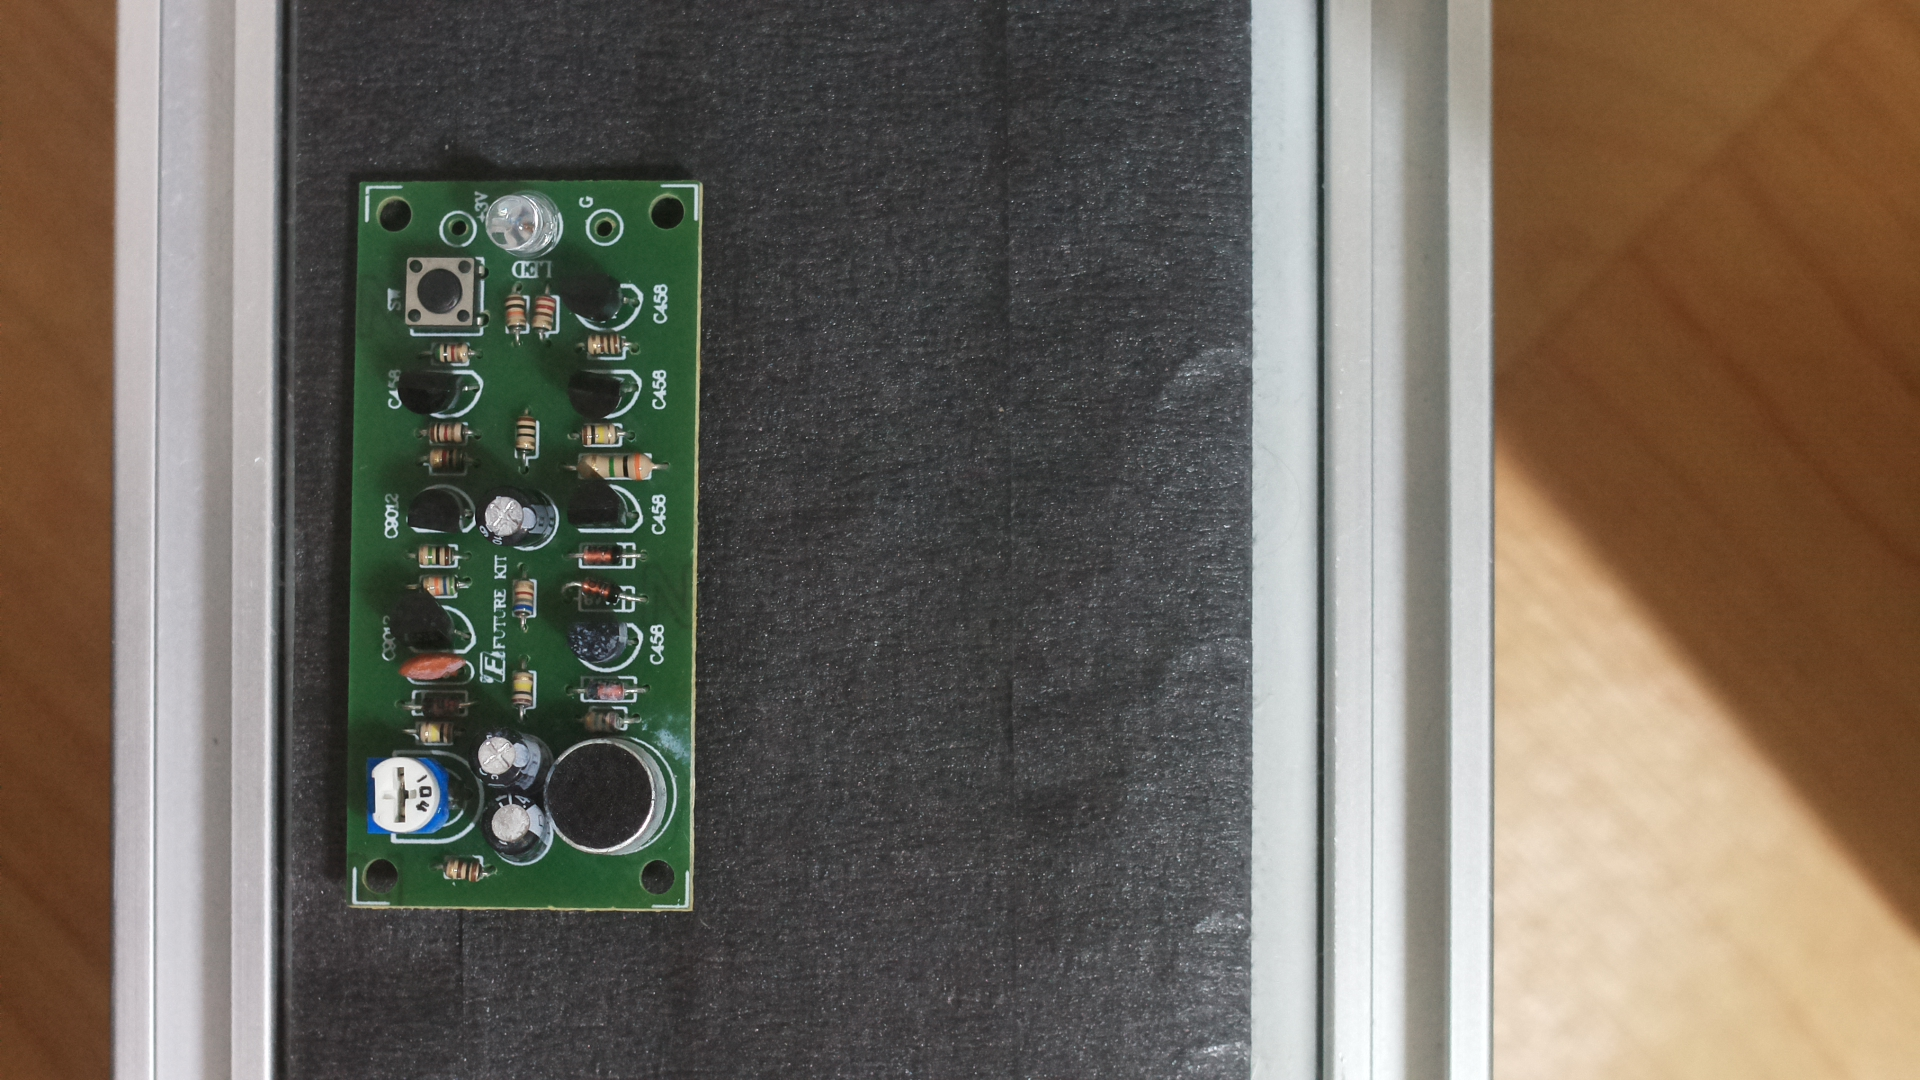A_Normal: (342, 164, 721, 936)
